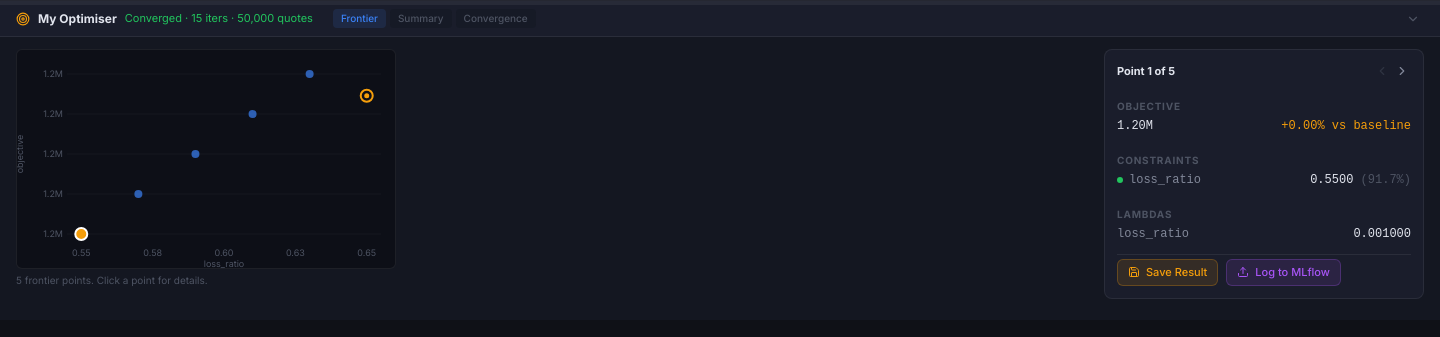
Test case: OptimiserPreview › save and log failure messages › shows error text when MLflow log fails
This screenshot has width=1440, height=337.
Click the button "Log to MLflow". click: (1284,272)
box: [1226,259,1341,286]
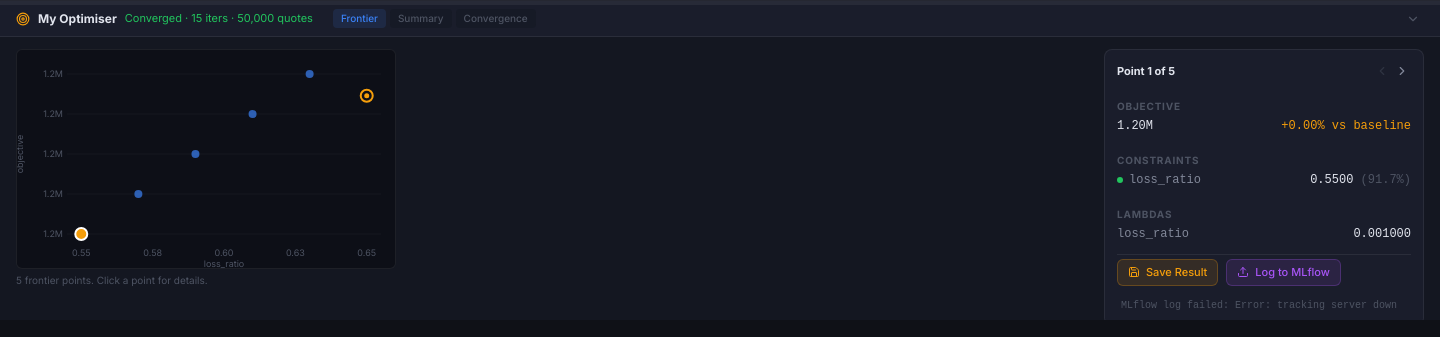
expect the text "MLflow log failed: Error: tracking server down" is shown: met, box [1117,298,1411,312]
